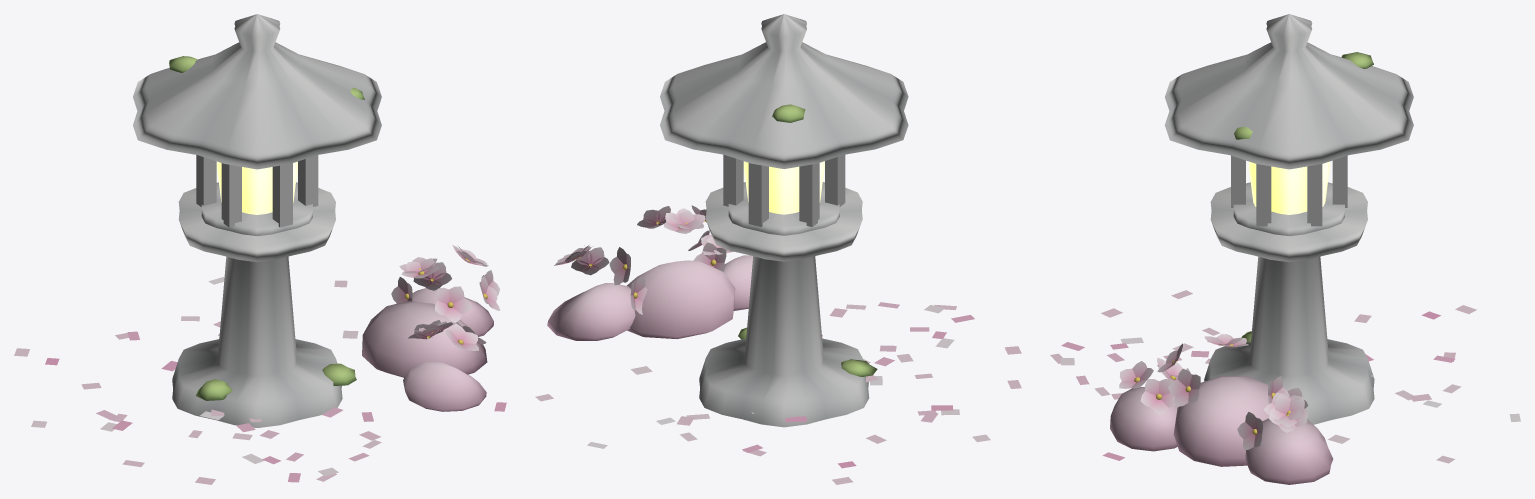
The model's file is sakura_lantern.glb.
3 renders of one model, left to right at view 1: azimuth 30°, elevation 25°; view 2: azimuth 150°, elevation 25°; view 3: azimuth 270°, elevation 25°, orthographic.
Visible parts, largest first — view 1: body, part0; view 2: body, part0; view 3: body, part0.
Part boxes in pixels (x1,y1,x2,y2): body: (14, 14, 506, 484); part0: (216, 161, 297, 214); body: (535, 14, 1021, 484); part0: (743, 161, 824, 214); body: (1050, 14, 1520, 484); part0: (1248, 161, 1329, 214).
Bounding box in the file's own units: 0.7627 × 0.61 × 0.6939.
